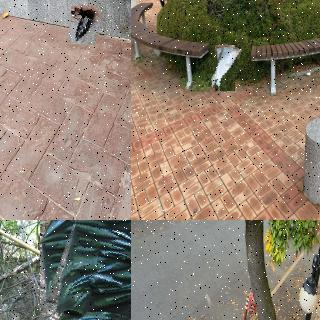Garbage: (18, 220, 131, 320), (211, 44, 239, 92), (68, 5, 99, 46)
